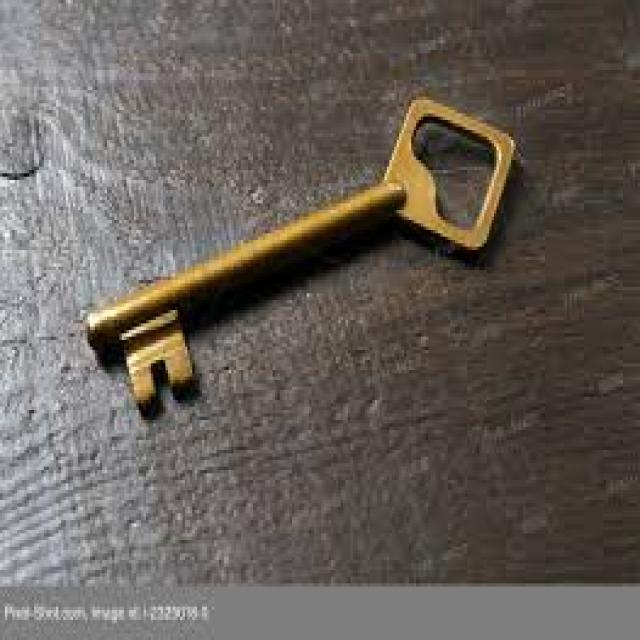key: (49, 76, 584, 440)
